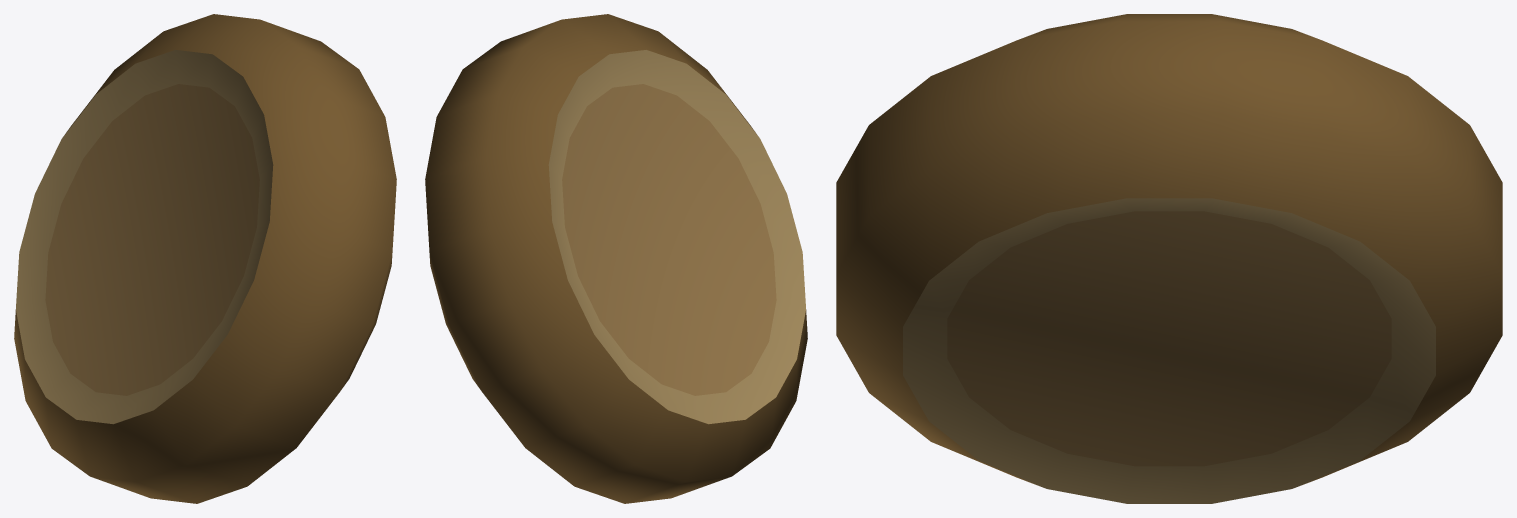
Rendered from tyrian10-7-f2.glb.
The picture shows the model from 3 angles, left to right: view 1: azimuth 30°, elevation 25°; view 2: azimuth 150°, elevation 25°; view 3: azimuth 270°, elevation 25°; orthographic projection. The views are drawn at different scales.
Visible parts, largest first — view 1: tyrian10-7-f2; view 2: tyrian10-7-f2; view 3: tyrian10-7-f2.
Part boxes in pixels (x1,y1,x2,y2): tyrian10-7-f2: (14,14,396,503); tyrian10-7-f2: (425,14,807,503); tyrian10-7-f2: (836,14,1502,503).
Size of the model in its own units: 0.5128 by 0.704 by 0.7408.
